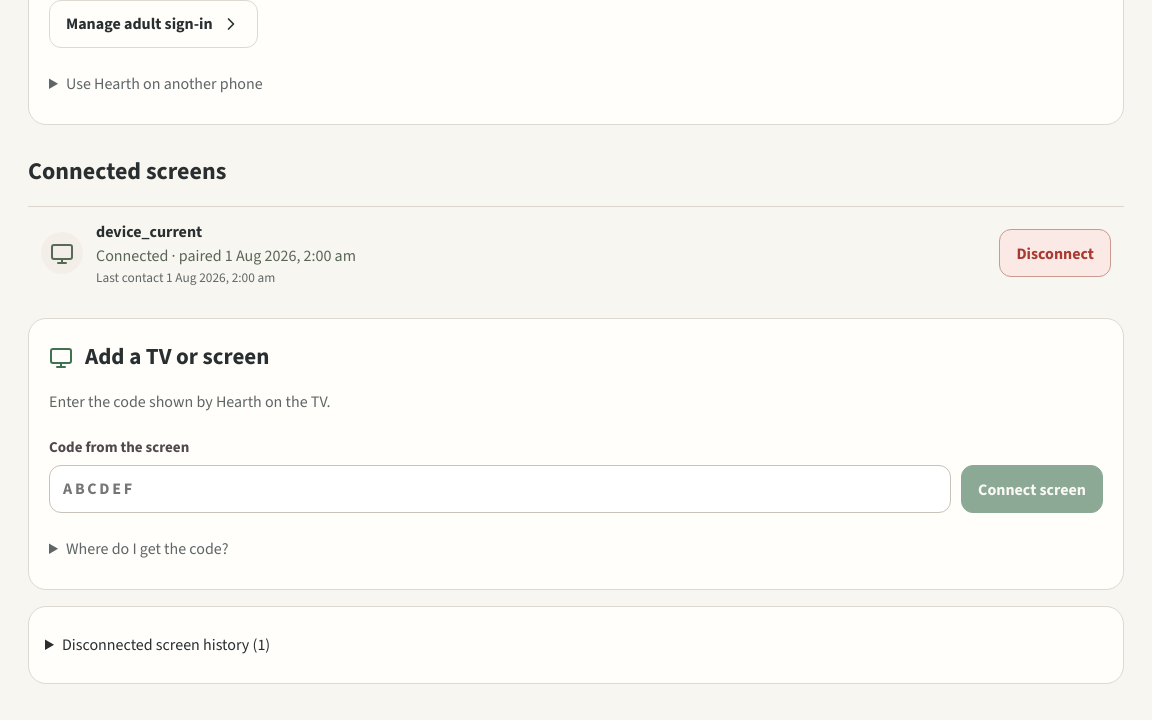
adult phones and shared screens › keeps revoked connections in collapsed history, not in the connected list
(page scrolled)
Expected: the text "device_current" is shown, [96, 220, 202, 242]
Expected: the text "device_old" is not shown
What coordinates should you click on to do the following:
click the heading "Disconnected screen history (1)"
I would click on:
 (166, 645)
Its box is [62, 634, 270, 656].
(page scrolled)
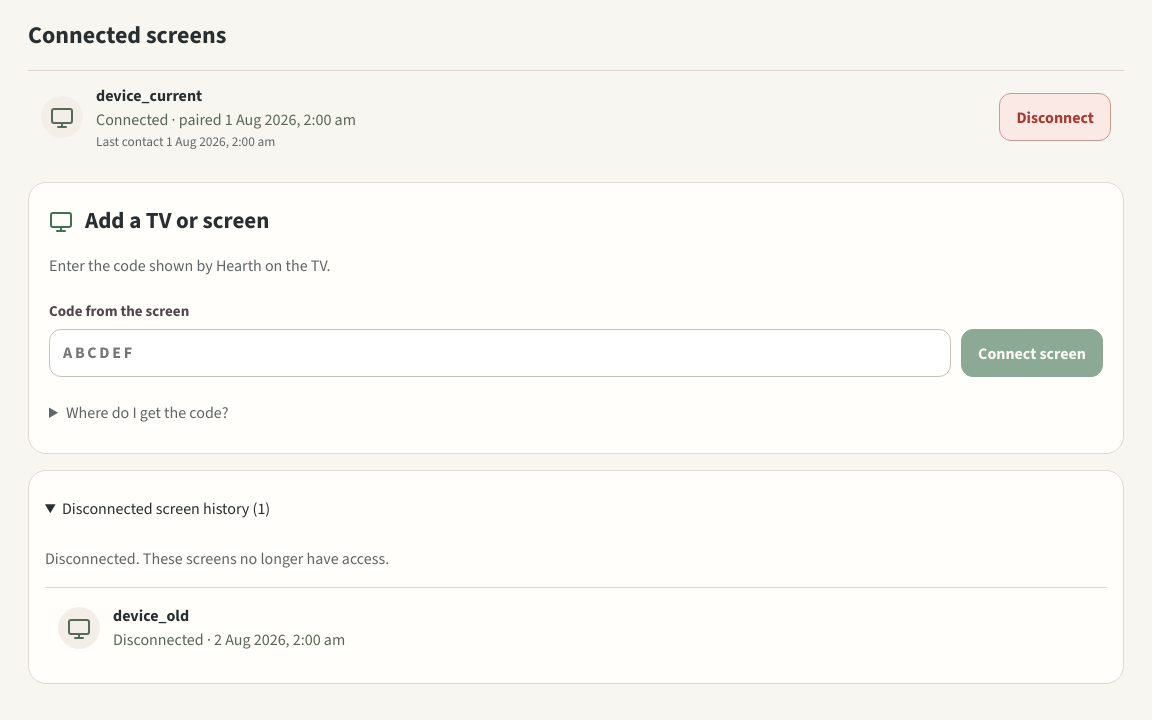
Expected: the number of buttons "Disconnect" is 1, [999, 94, 1111, 142]
Result: the text "device_old" is shown at [113, 605, 189, 626]
